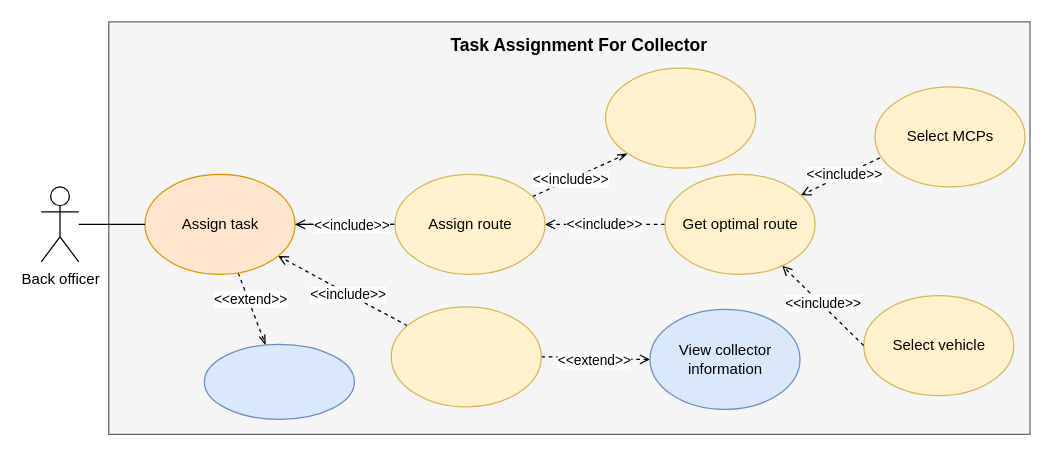
This 1053x456 diagram has some shape labels left out. Each missing label, with the centre of its shape:
"Modify route" goes at pixel 680 117.
"Report error" goes at pixel 278 381.
"Select collector" goes at pixel 465 356.
